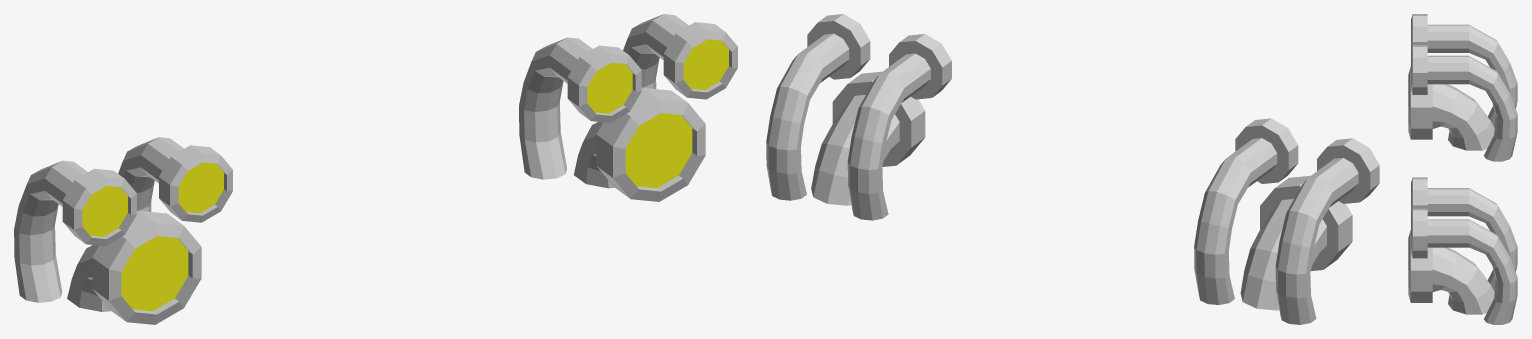
File: Lights_Kart3.fbx
3 views of the same model, side by side, from view 1: azimuth 30°, elevation 25°; view 2: azimuth 150°, elevation 25°; view 3: azimuth 270°, elevation 25° (orthographic). The views are drawn at different scales.
Parts seen in each view (by area): view 1: Lights_Kart3; view 2: Lights_Kart3; view 3: Lights_Kart3.
Part boxes in pixels (<box>): Lights_Kart3: <box>14,14,737,324</box>; Lights_Kart3: <box>766,14,1379,324</box>; Lights_Kart3: <box>1408,14,1517,324</box>.
Size of the model in its own units: 568 by 134 by 122.
